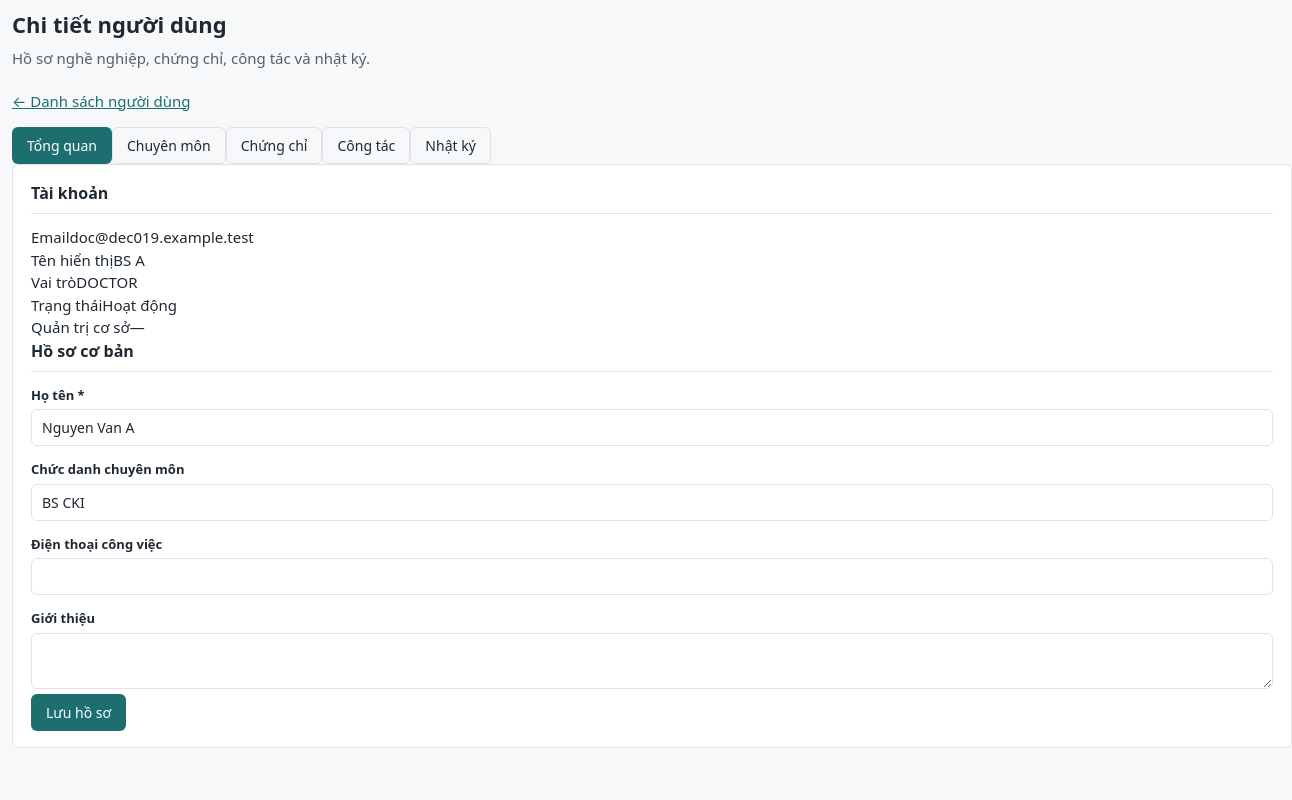
it: UserDetailPage › saves the basic profile and shows a success toast
The width and height of the screenshot is (1292, 800).
Type "0912345678" into the field labelled "Điện thoại công việc" at x=652, y=576, box x1=31 y1=558 x2=1273 y2=595
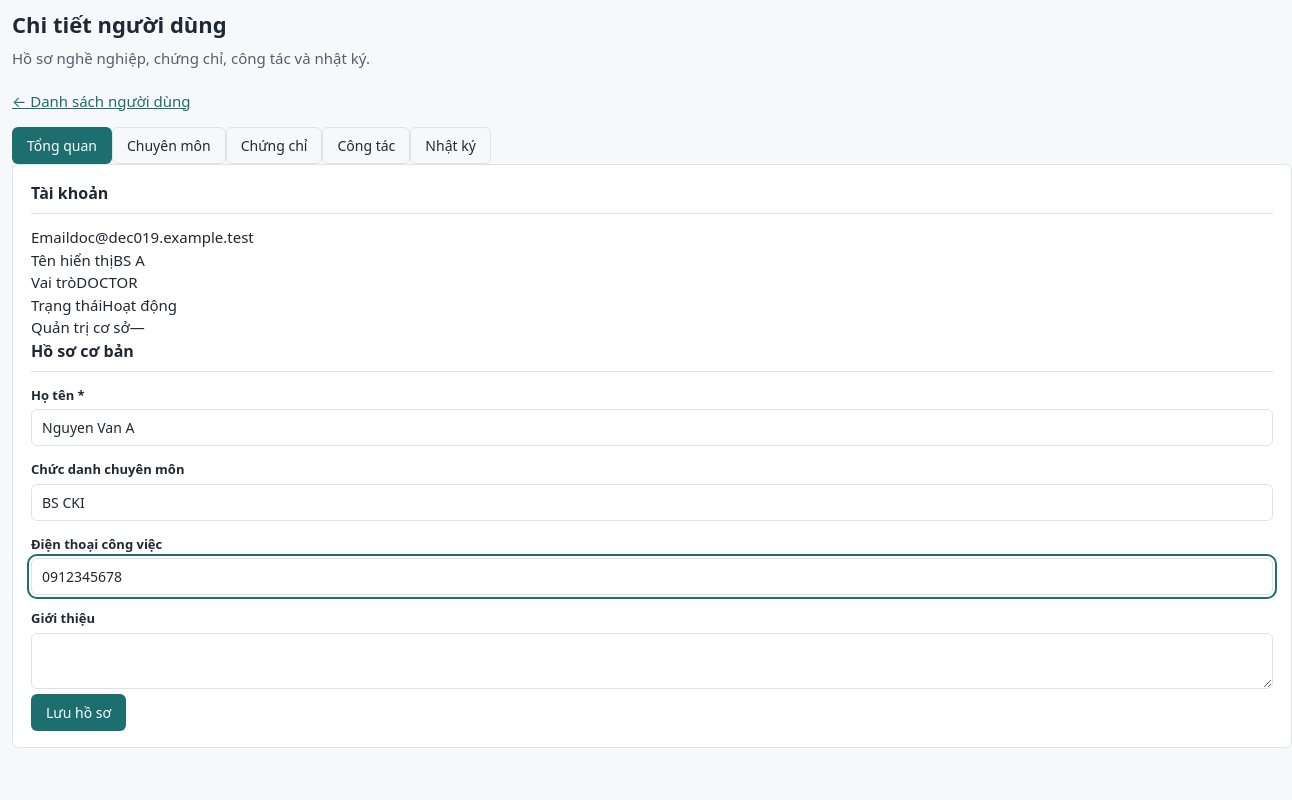
Click the button "Lưu hồ sơ" at x=79, y=712, box x1=31 y1=694 x2=126 y2=731
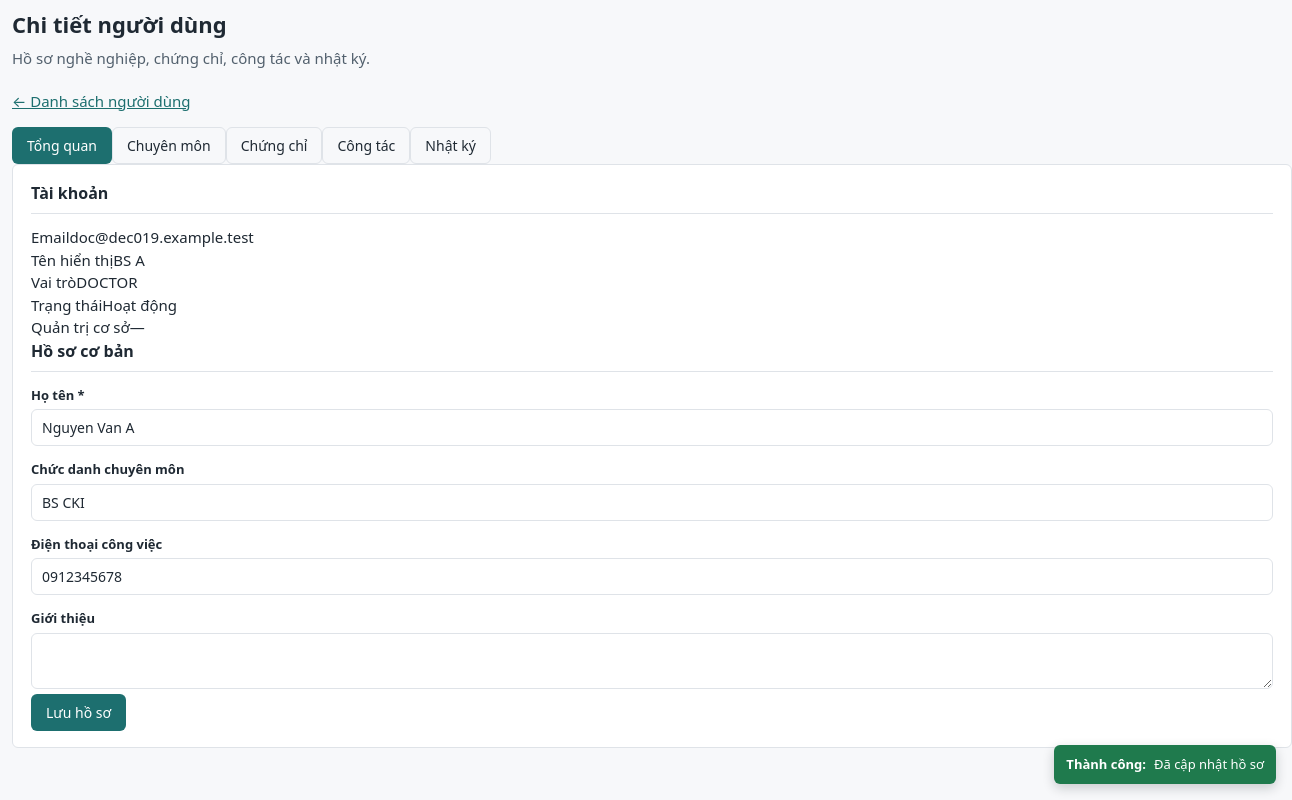
Now the text "Đã cập nhật hồ sơ" is shown, box x1=1154 y1=754 x2=1264 y2=774
